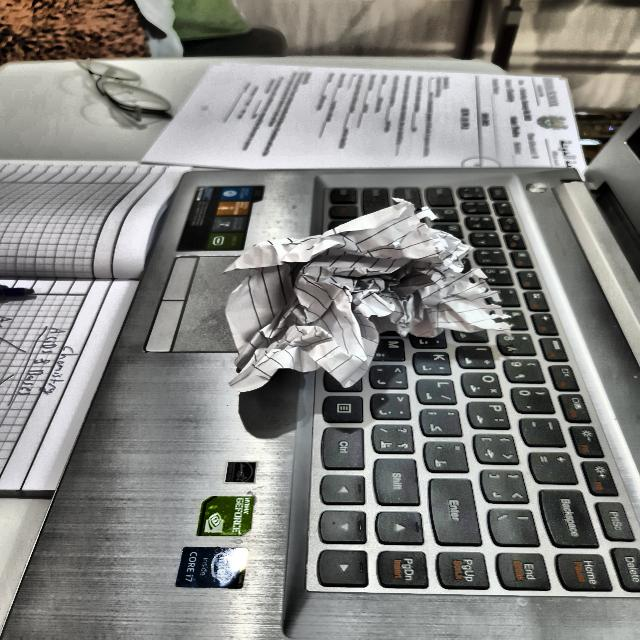Paper: (235, 197, 494, 380)
